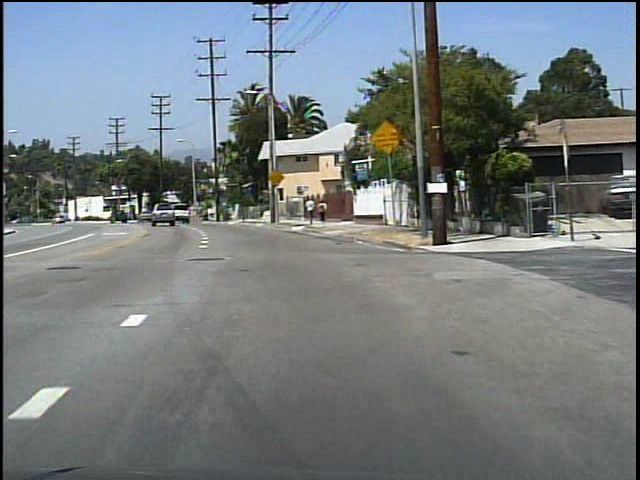person: (303, 196, 316, 226), (316, 198, 328, 226)
